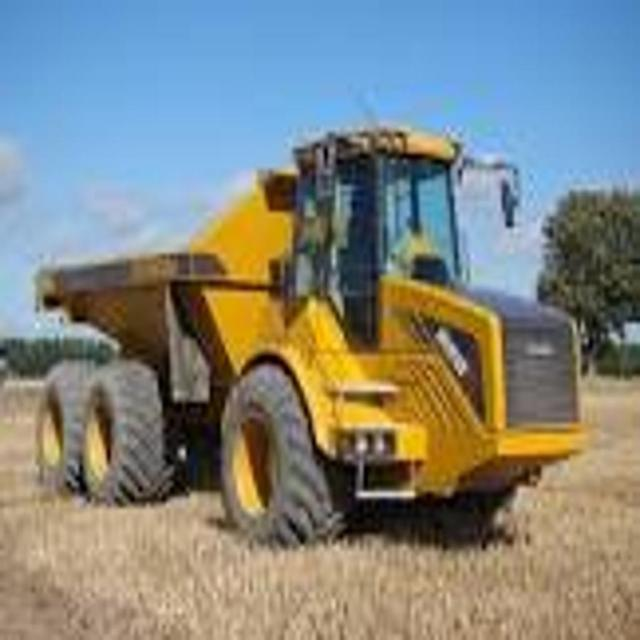dump_truck: (26, 113, 587, 577)
